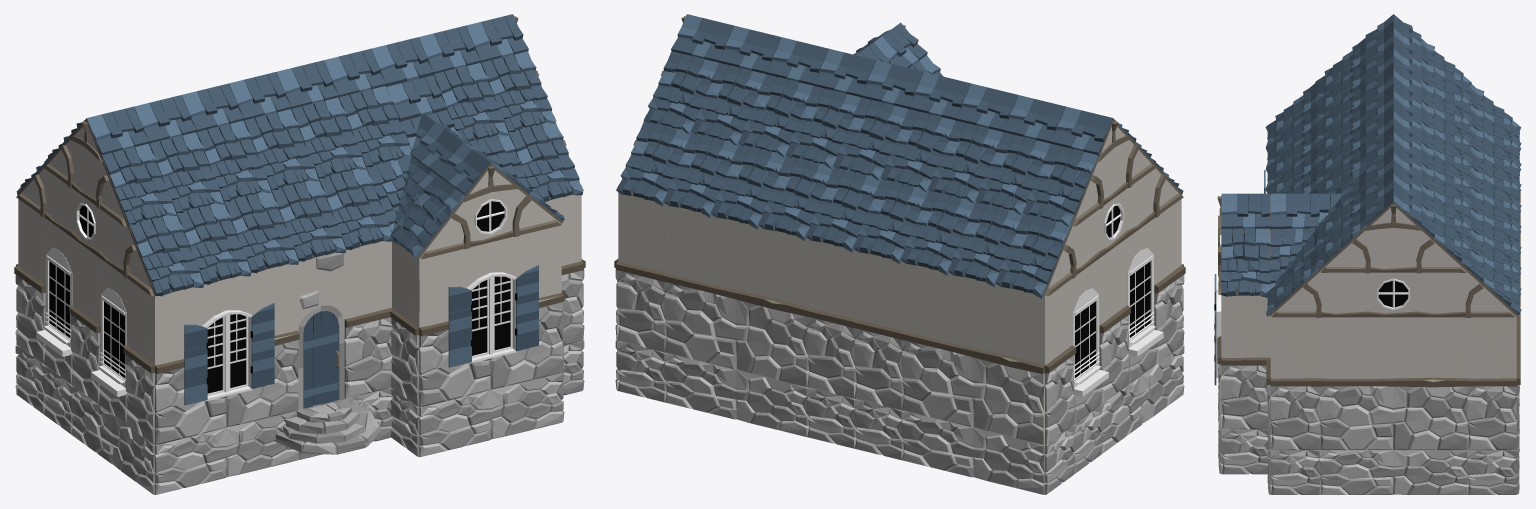
Rendered from House_2.fbx.
3 renders of one model, left to right at view 1: azimuth 30°, elevation 25°; view 2: azimuth 150°, elevation 25°; view 3: azimuth 270°, elevation 25°, orthographic. The views are drawn at different scales.
Visible parts, largest first — view 1: WINDOW_03_2, WINDOW_03_3, FOUNDATION_01_2, WALL_04_41, DOOR_02_2, FOUNDATION_01_3, WALL_04_42, WALL_04_40, FOUNDATION_01_4, STAIRS_05_2, WALL_04_43, WINDOW_02_7 (+50 smaller); view 2: WALL_01_7, WALL_01_6, FOUNDATION_01_5, FOUNDATION_01_6, WALL_04_47, WALL_04_46, WALL_04_45, WALL_04_44, FOUNDATION_01_4, WALL_04_43, WINDOW_02_6, WINDOW_02_7 (+42 smaller); view 3: WALL_01_5, FOUNDATION_01_7, WALL_04_48, WALL_04_49, WALL_04_50, ROOF_base_17, ROOF_TRIANGLE_WINDOW_ROUND_4, ROOF_TRIANGLE_WOOD_3, ROOF_TRIANGLE_WOOD_2, FOUNDATION_03_8, FOUNDATION_03_7, FOUNDATION_03_5 (+64 smaller).
Boxes of the visible parts, left/top/right/bottom form: WINDOW_03_2: left=153, top=264, right=299, bottom=445; WINDOW_03_3: left=418, top=224, right=563, bottom=407; FOUNDATION_01_2: left=419, top=373, right=563, bottom=457; WALL_04_41: left=344, top=241, right=392, bottom=398; DOOR_02_2: left=297, top=252, right=344, bottom=410; FOUNDATION_01_3: left=154, top=411, right=298, bottom=494; WALL_04_42: left=123, top=279, right=157, bottom=444; WALL_04_40: left=390, top=241, right=422, bottom=407; FOUNDATION_01_4: left=70, top=385, right=158, bottom=494; STAIRS_05_2: left=275, top=398, right=380, bottom=454; WALL_04_43: left=69, top=238, right=100, bottom=404; WINDOW_02_7: left=36, top=218, right=72, bottom=383; WALL_01_7: left=900, top=262, right=1046, bottom=445; WALL_01_6: left=663, top=204, right=807, bottom=387; FOUNDATION_01_5: left=901, top=410, right=1046, bottom=494; FOUNDATION_01_6: left=664, top=353, right=808, bottom=436; WALL_04_47: left=805, top=239, right=855, bottom=398; WALL_04_46: left=853, top=250, right=902, bottom=410; WALL_04_45: left=616, top=194, right=665, bottom=352; WALL_04_44: left=1042, top=279, right=1076, bottom=444; FOUNDATION_01_4: left=1099, top=345, right=1184, bottom=454; WALL_04_43: left=1099, top=238, right=1130, bottom=404; WINDOW_02_6: left=1127, top=218, right=1163, bottom=383; WINDOW_02_7: left=1072, top=258, right=1108, bottom=424; WALL_01_5: left=1319, top=317, right=1467, bottom=450; FOUNDATION_01_7: left=1319, top=450, right=1467, bottom=494; WALL_04_48: left=1467, top=317, right=1516, bottom=450; WALL_04_49: left=1270, top=317, right=1319, bottom=450; WALL_04_50: left=1221, top=295, right=1270, bottom=429; ROOF_base_17: left=1221, top=228, right=1270, bottom=297; ROOF_TRIANGLE_WINDOW_ROUND_4: left=1369, top=272, right=1418, bottom=317; ROOF_TRIANGLE_WOOD_3: left=1418, top=272, right=1467, bottom=317; ROOF_TRIANGLE_WOOD_2: left=1319, top=272, right=1368, bottom=317; FOUNDATION_03_8: left=1467, top=450, right=1516, bottom=494; FOUNDATION_03_7: left=1270, top=450, right=1319, bottom=494; FOUNDATION_03_5: left=1221, top=429, right=1268, bottom=474.
Bounding box in the file's own units: 929 × 659 × 624.
